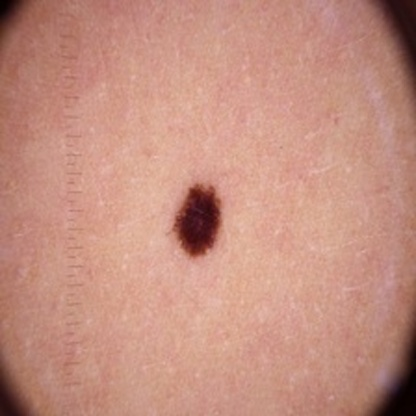benign: (171, 179, 224, 259)
